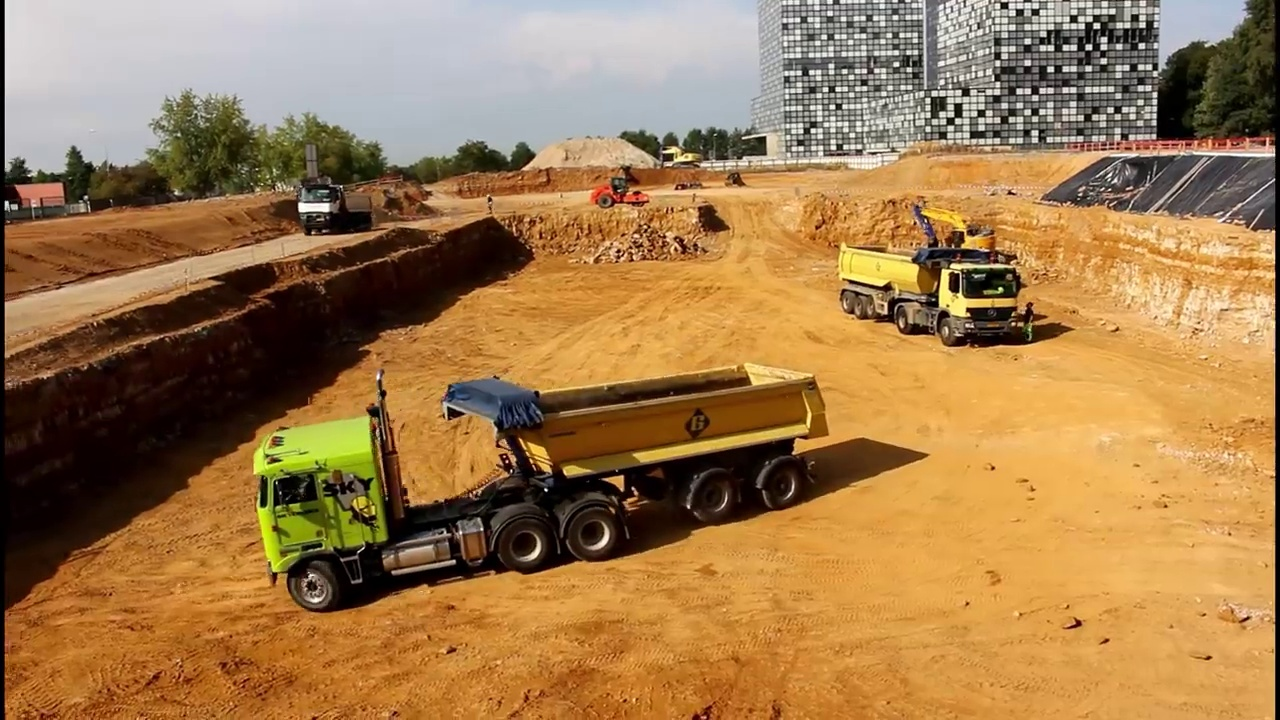compactor: (588, 175, 653, 210)
excavator: (906, 196, 1007, 300), (654, 145, 705, 174)
truck: (250, 361, 834, 614), (834, 243, 1024, 350), (298, 183, 378, 234)
worker: (1019, 298, 1041, 350), (485, 190, 499, 220)
